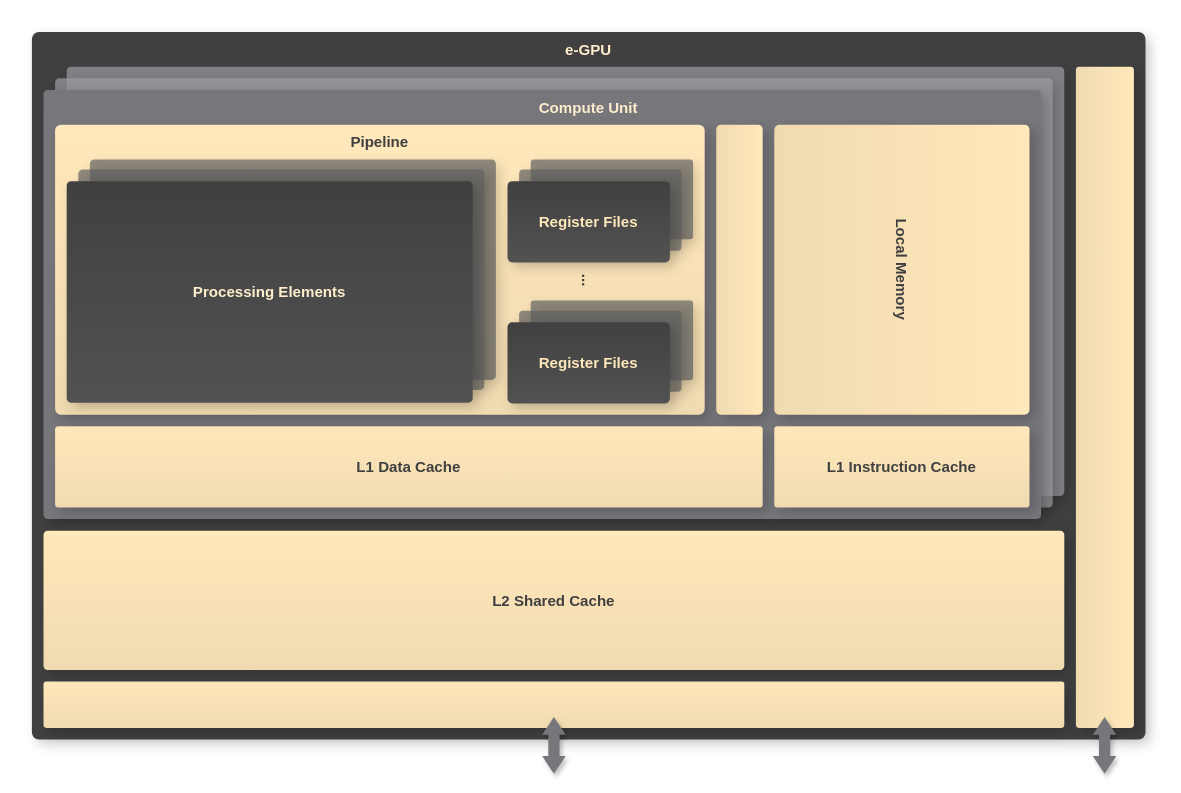
This 1181x793 diagram has some shape labels left out. Each missing label, with the centre of its shape:
"Controller" belongs at pixel 1107 399.
"Interleaved Crossbar" belongs at pixel 741 271.
"Memory Controller" belongs at pixel 555 706.
